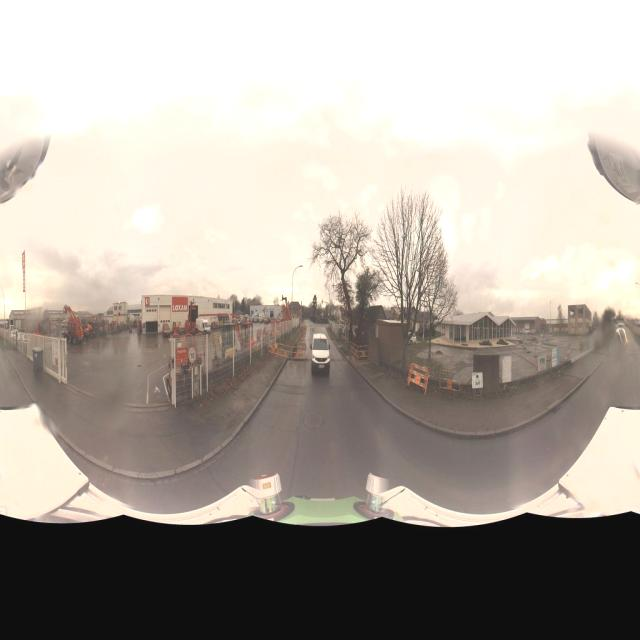car: (310, 333, 331, 378)
